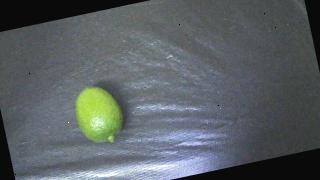LOCAL: (71, 82, 128, 149)
